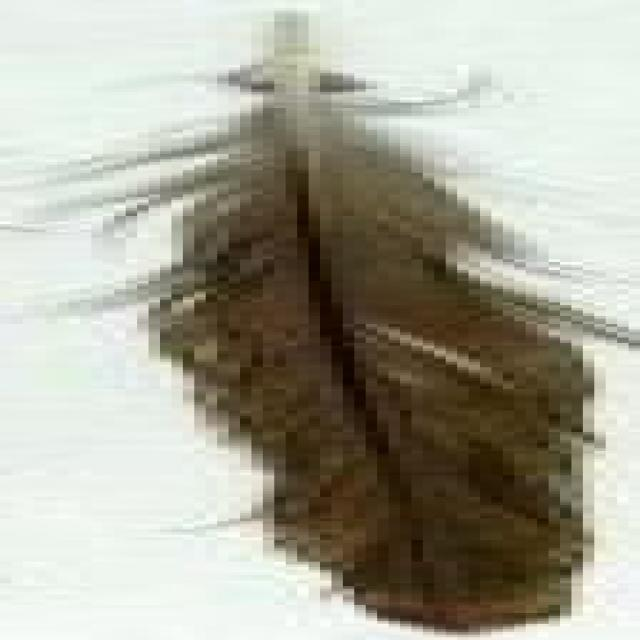feather: (11, 8, 640, 632)
